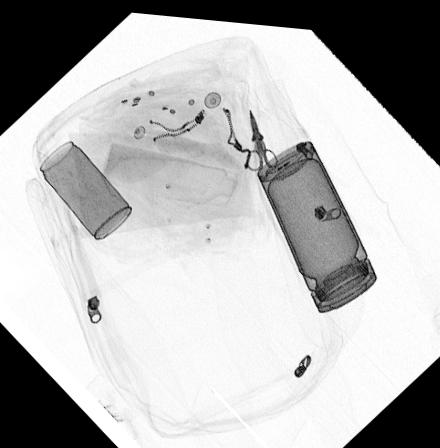Scissors: (242, 103, 279, 168)
